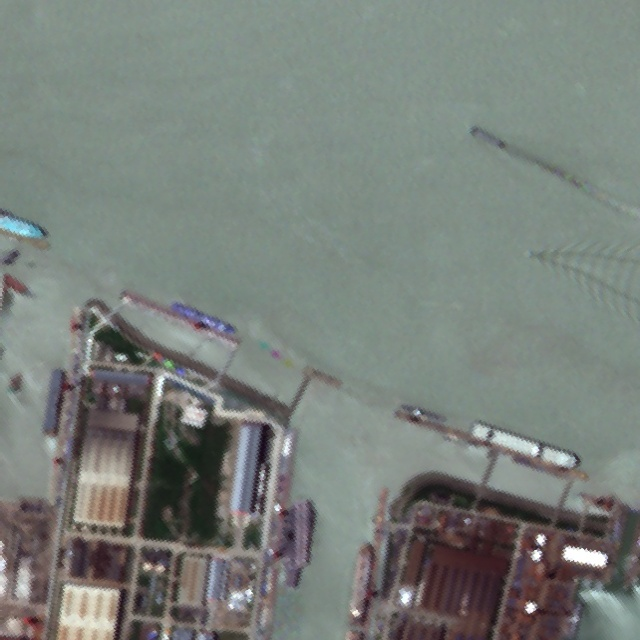wake: (519, 218, 637, 303)
